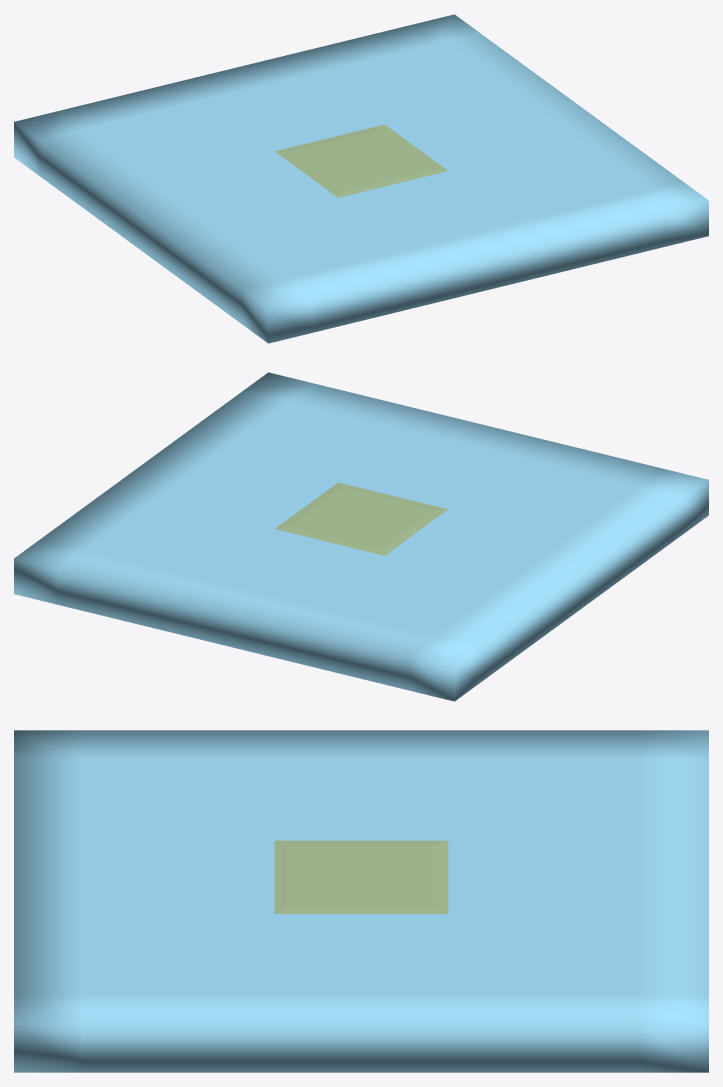
Rendered from MAP creature.fbx.
3 renders of one model, top to bottom at view 1: azimuth 30°, elevation 25°; view 2: azimuth 150°, elevation 25°; view 3: azimuth 270°, elevation 25°, orthographic. The views are drawn at different scales.
Visible parts, largest first — view 1: Plane__1_, Tierra; view 2: Plane__1_, Tierra; view 3: Plane__1_, Tierra.
Part boxes in pixels (x1,y1,x2,y2): Plane__1_: (14,14,708,343); Tierra: (275,124,447,197); Plane__1_: (14,372,708,701); Tierra: (275,482,447,555); Plane__1_: (14,730,708,1072); Tierra: (274,840,448,913).
Bounding box in the file's own units: 260265 × 20340 × 260265.
